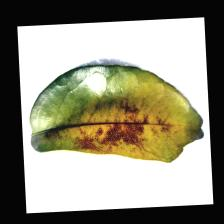black spot: (52, 92, 187, 174)
